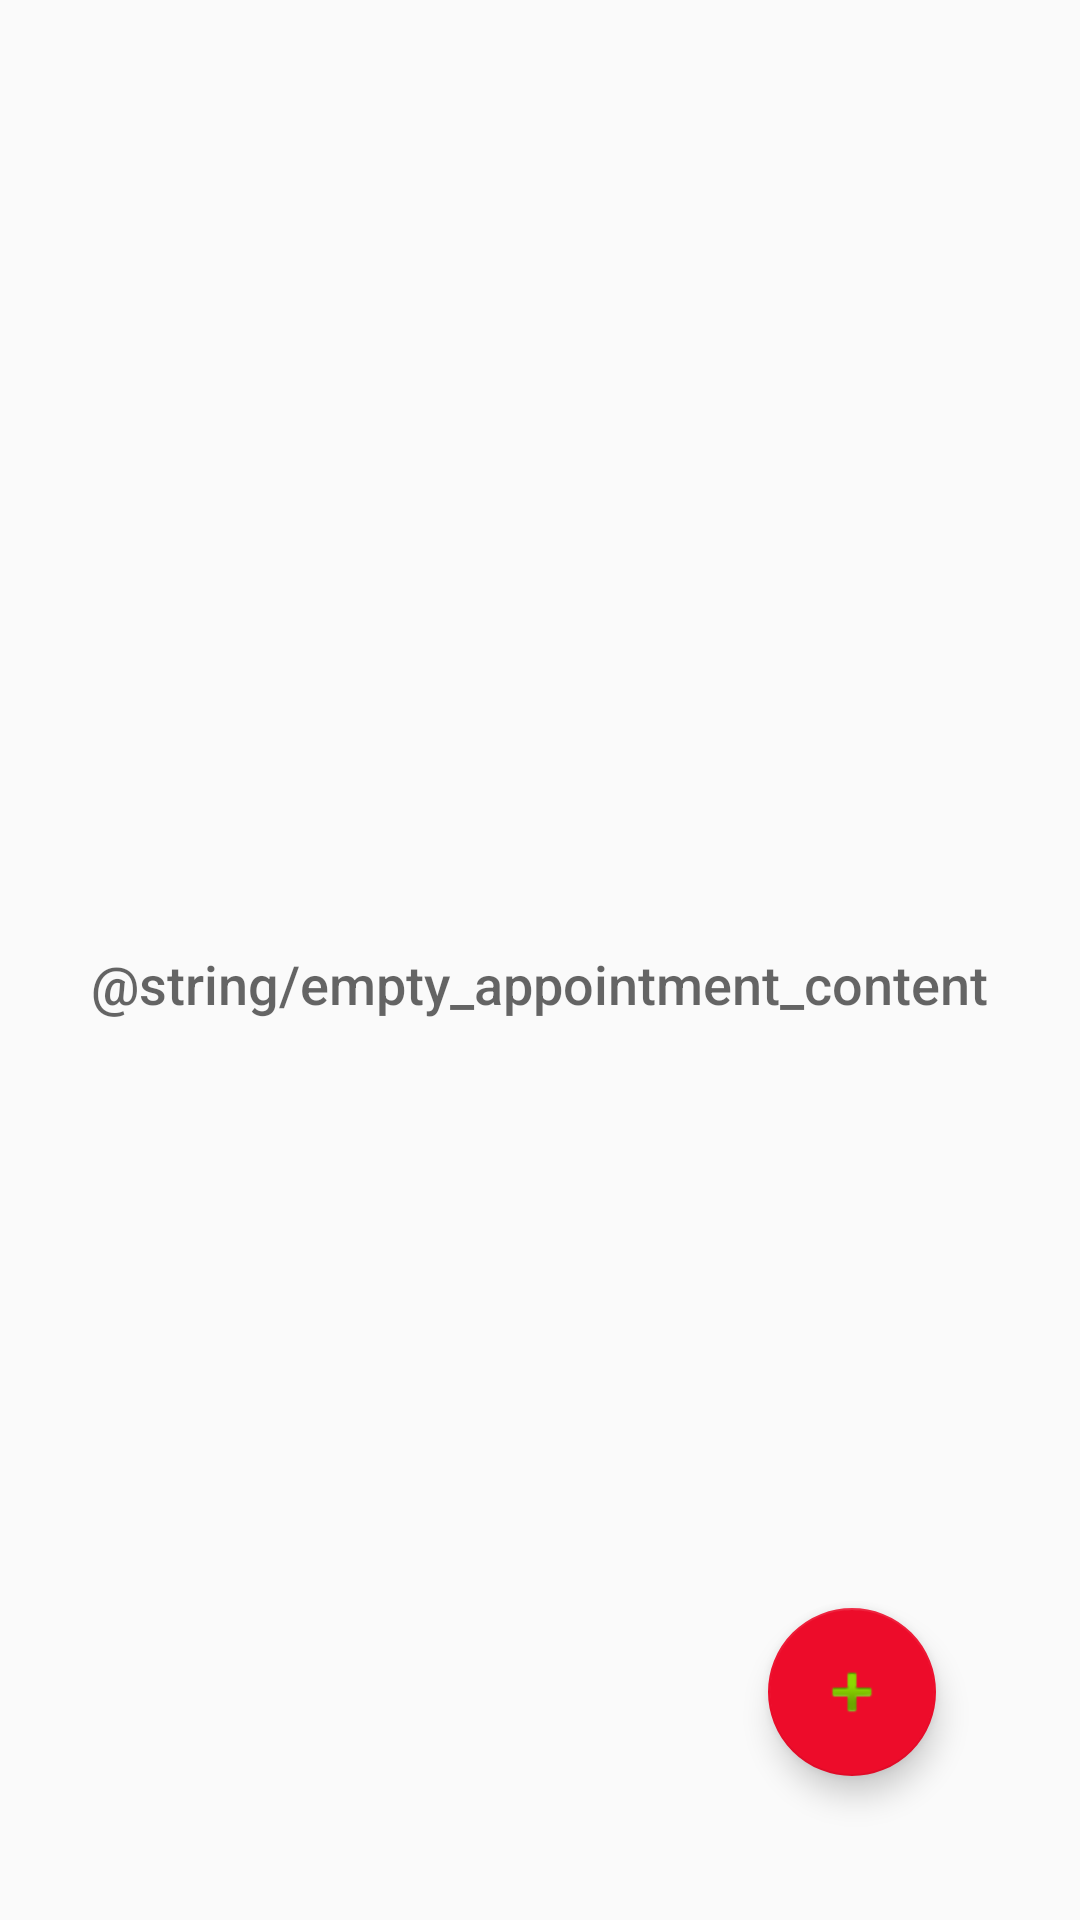

Where to tap for icons on this 1080×1920 app screen, as (x,y):
add: (852,1692)
